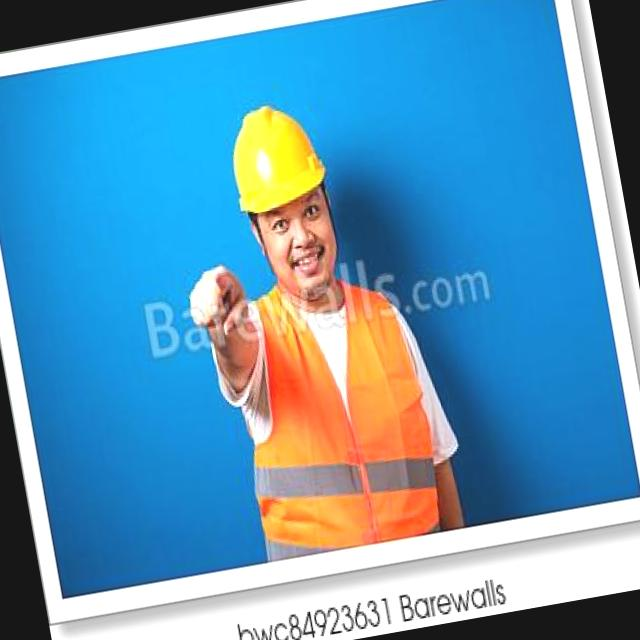helmet: (206, 72, 346, 222)
no-goggles: (248, 193, 336, 248)
vest: (218, 250, 458, 550)
